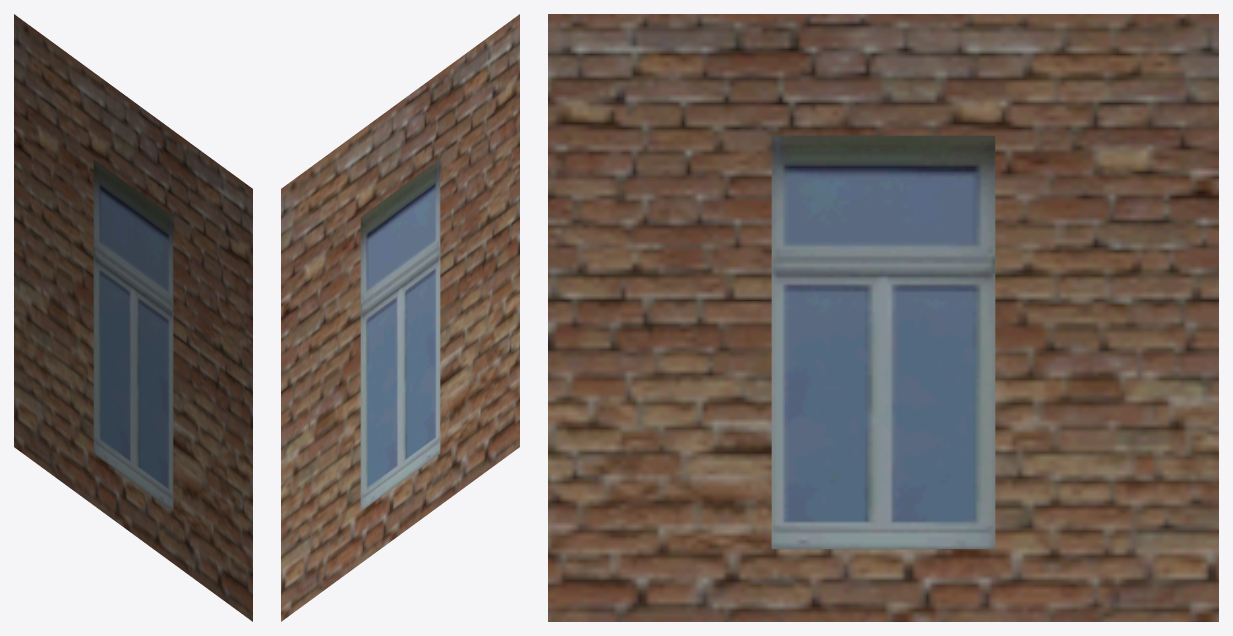
Rendered from Urban_BrickWallWindow1_Model.fbx.
3 renders of one model, left to right at view 1: azimuth 30°, elevation 25°; view 2: azimuth 150°, elevation 25°; view 3: azimuth 270°, elevation 25°, orthographic. The views are drawn at different scales.
Parts seen in each view (by area): view 1: Urban_BrickWallWindow1_Mesh; view 2: Urban_BrickWallWindow1_Mesh; view 3: Urban_BrickWallWindow1_Mesh.
Boxes of the visible parts, left/top/right/bottom form: Urban_BrickWallWindow1_Mesh: left=14, top=14, right=252, bottom=621; Urban_BrickWallWindow1_Mesh: left=281, top=14, right=519, bottom=621; Urban_BrickWallWindow1_Mesh: left=548, top=14, right=1218, bottom=621.
Bounding box in the file's own units: 0 × 2.1 × 2.1.
